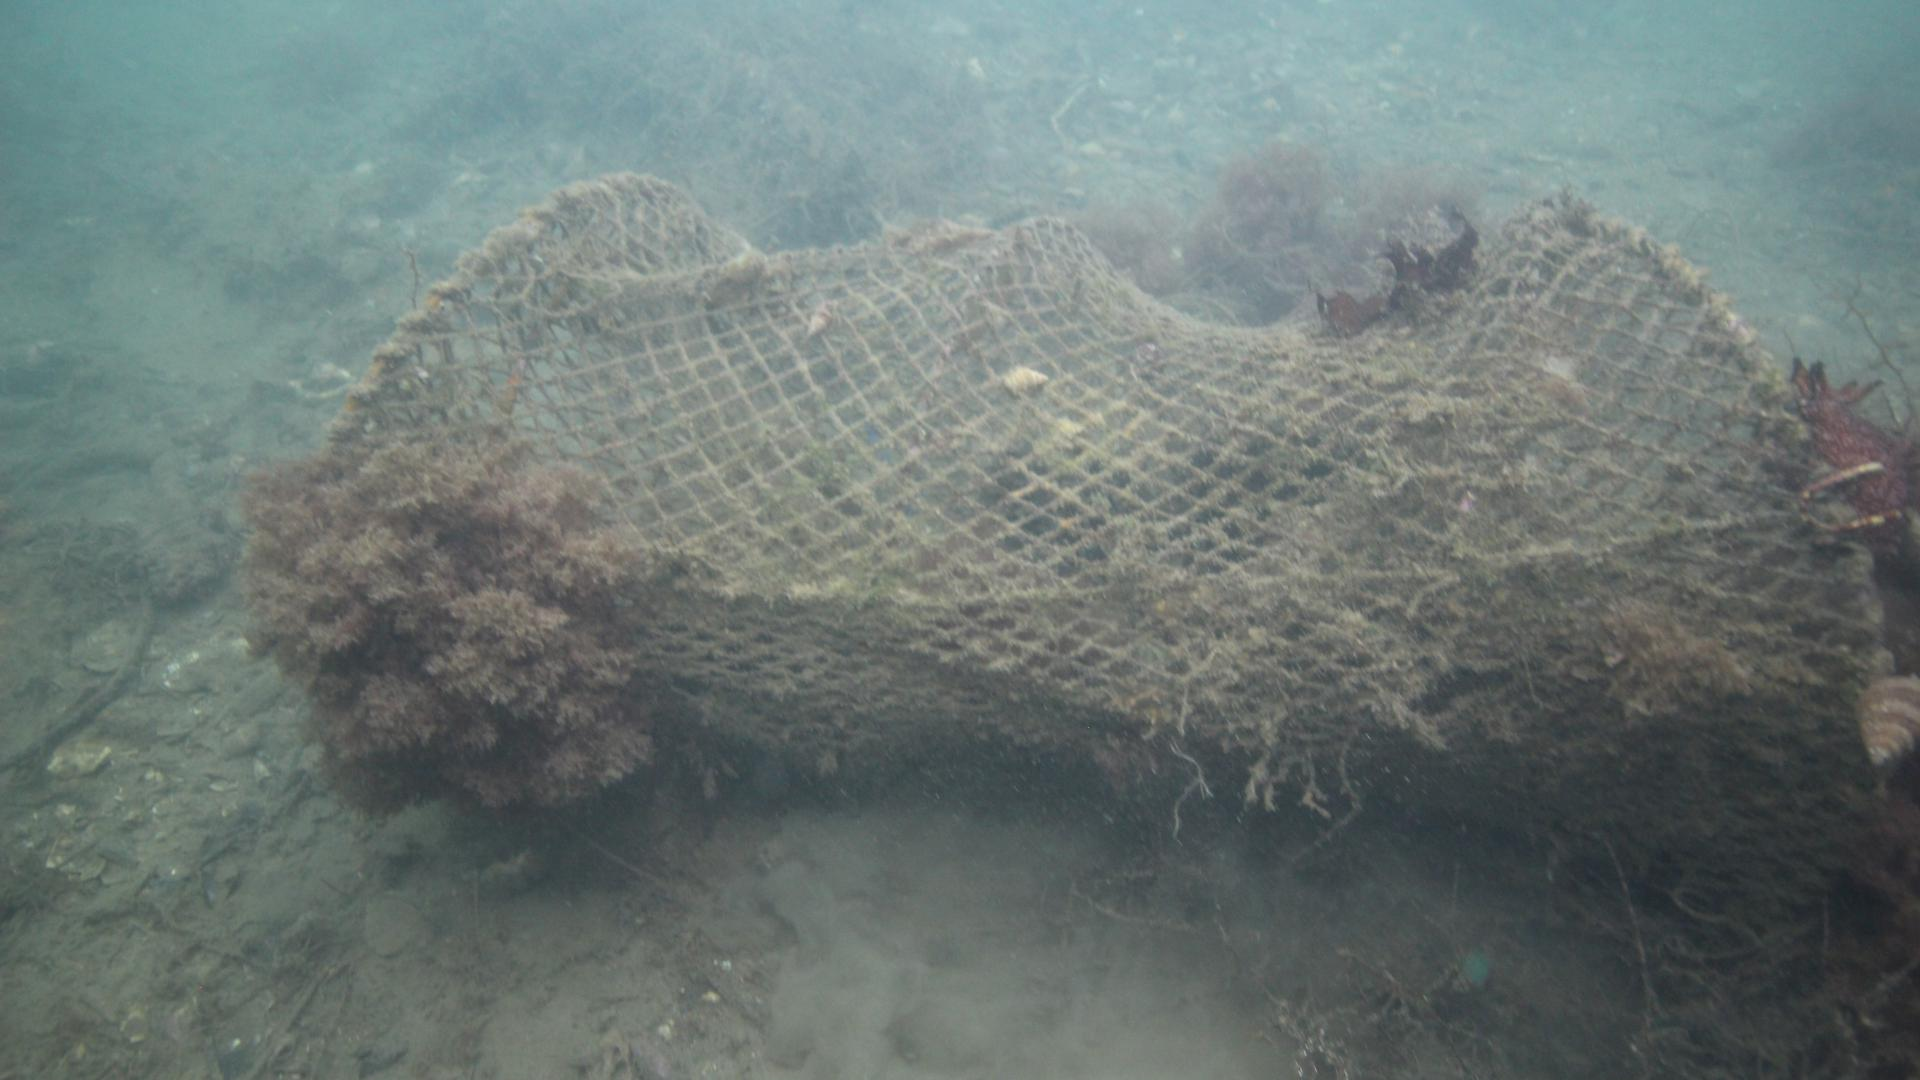spring fish trap: (334, 171, 1905, 802)
